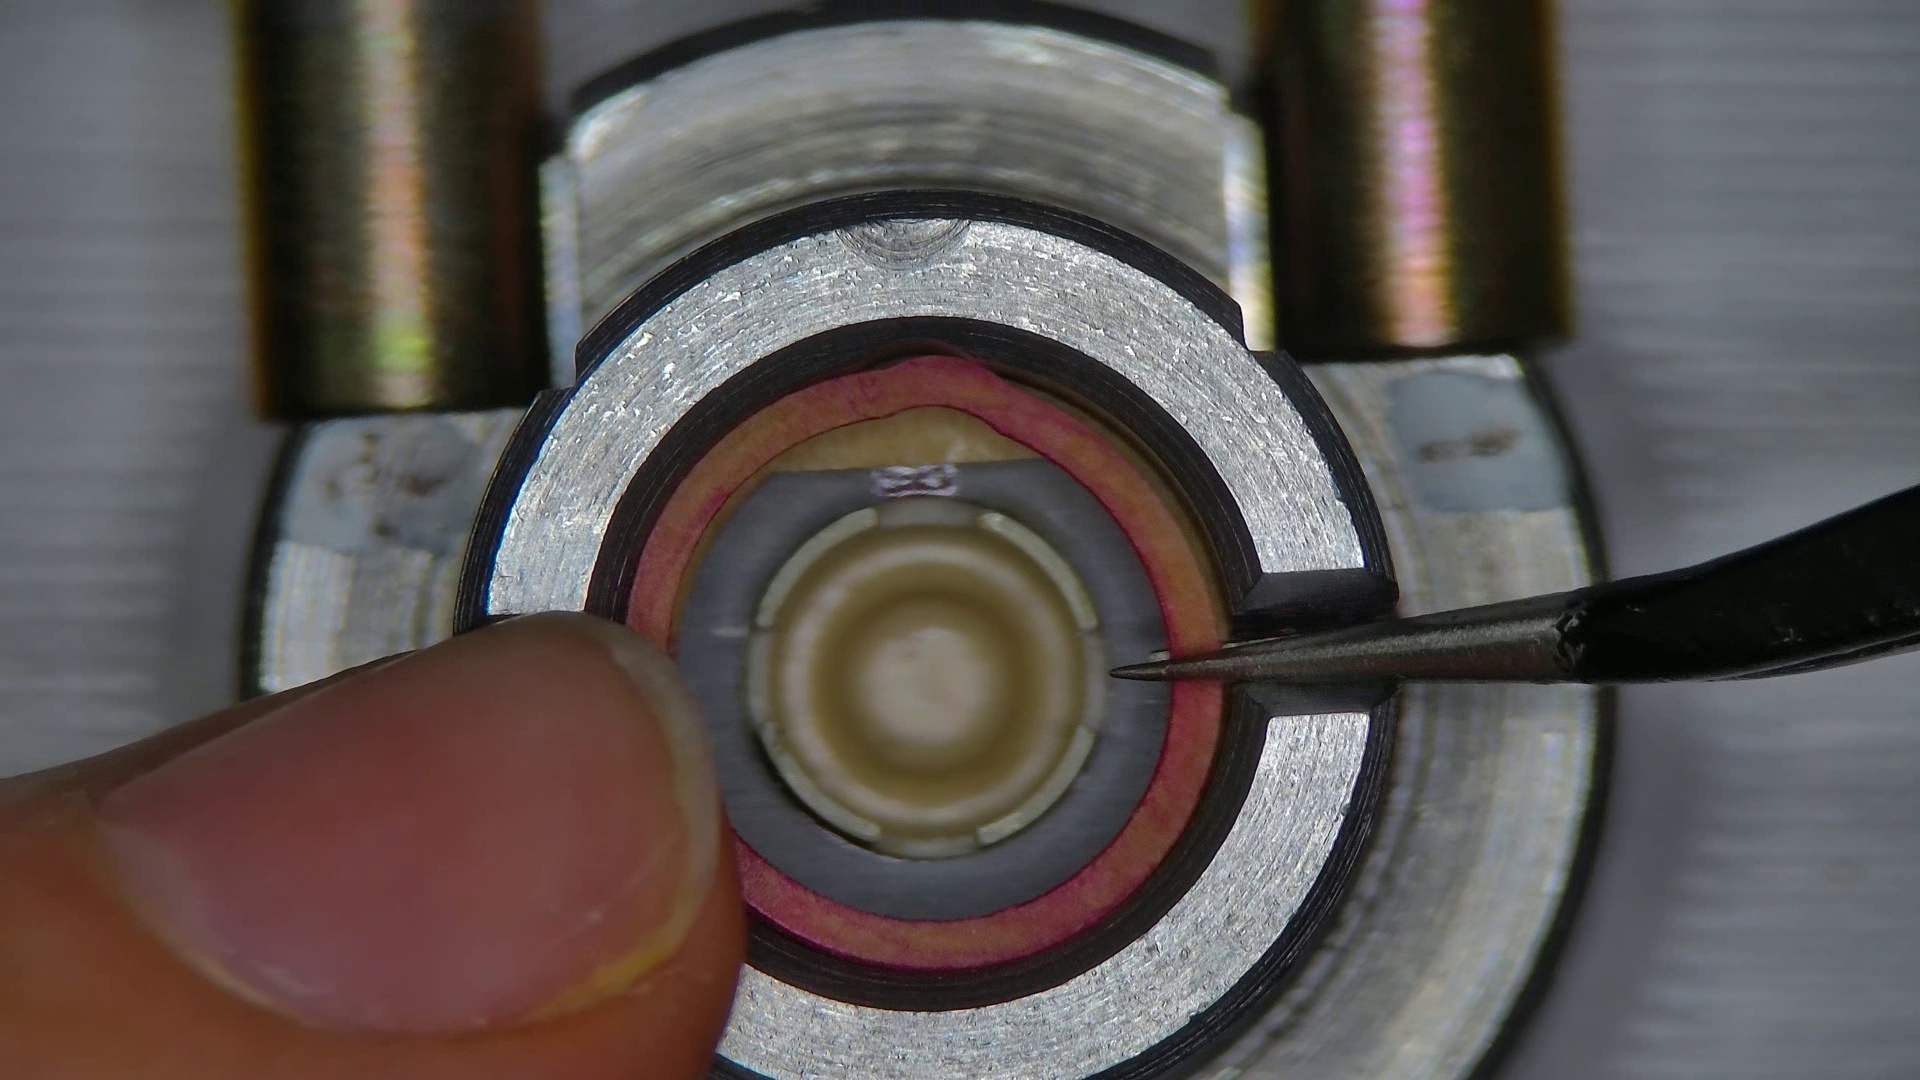GreyOring: (626, 353, 1222, 653), (731, 682, 1224, 971)
YellowOring: (676, 463, 1168, 919)
redOring: (669, 407, 1035, 626)
